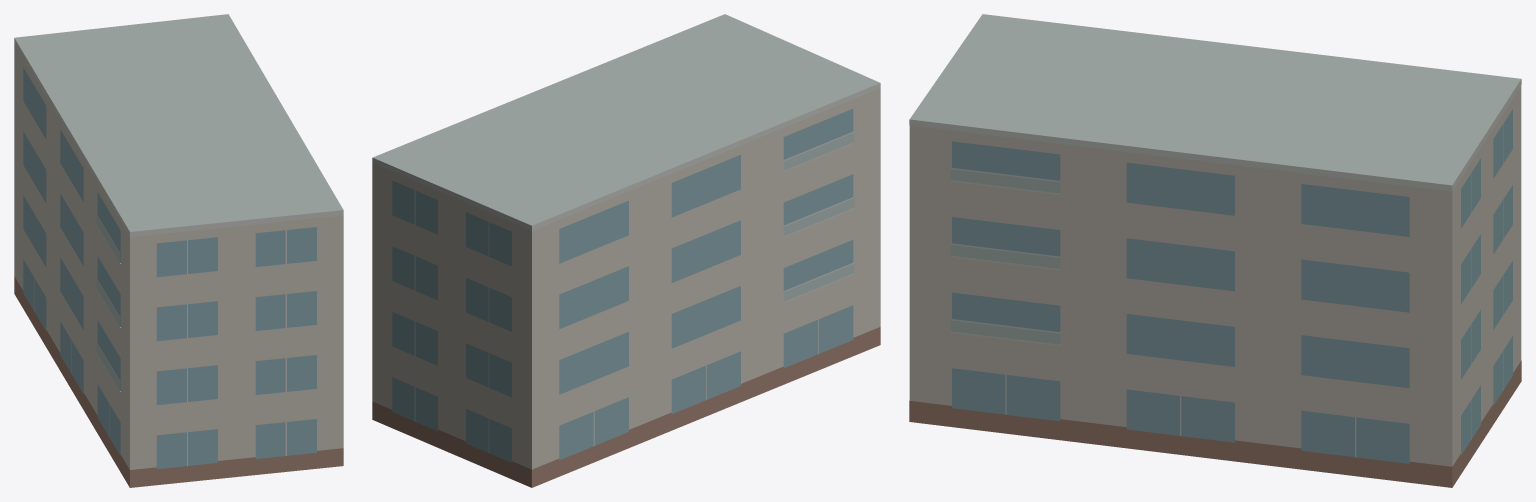
Rendered from survey-upis-32880934.glb.
The picture shows the model from 3 angles, left to right: view 1: azimuth 30°, elevation 25°; view 2: azimuth 150°, elevation 25°; view 3: azimuth 270°, elevation 25°; orthographic projection. The views are drawn at different scales.
Visible parts, largest first — view 1: survey-upis-32880934.tmp; view 2: survey-upis-32880934.tmp; view 3: survey-upis-32880934.tmp.
Boxes of the visible parts, x1,y1,x2,y2 form: survey-upis-32880934.tmp: (14,14,343,487); survey-upis-32880934.tmp: (372,14,880,487); survey-upis-32880934.tmp: (909,14,1521,487).
Bounding box in the file's own units: 14.84 × 12.2 × 22.38.
